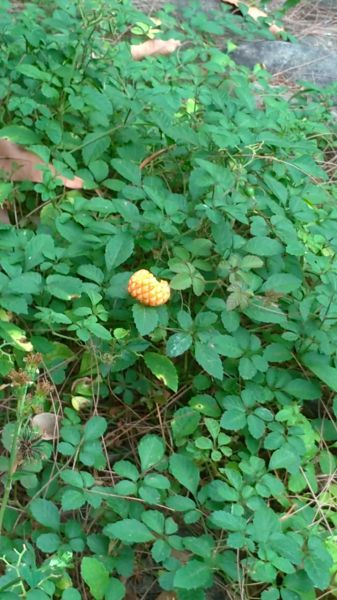eggs: (122, 267, 175, 308)
